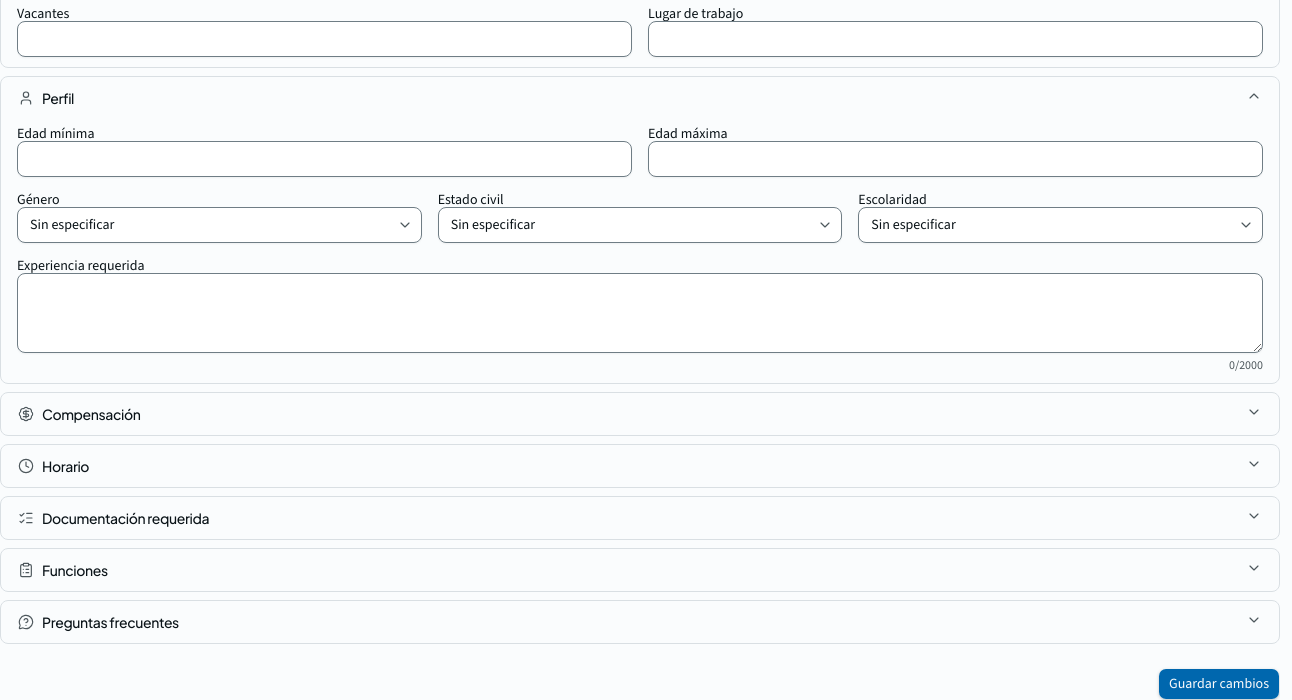
Test: 011 — PositionForm › muestra mensaje empty para FAQ cuando la lista está vacía
This screenshot has width=1292, height=700.
(page scrolled)
What coordinates should you click on to do the following:
click the button "Preguntas frecuentes"
I would click on:
 (110, 622)
Its box is [17, 601, 1263, 643].
(page scrolled)
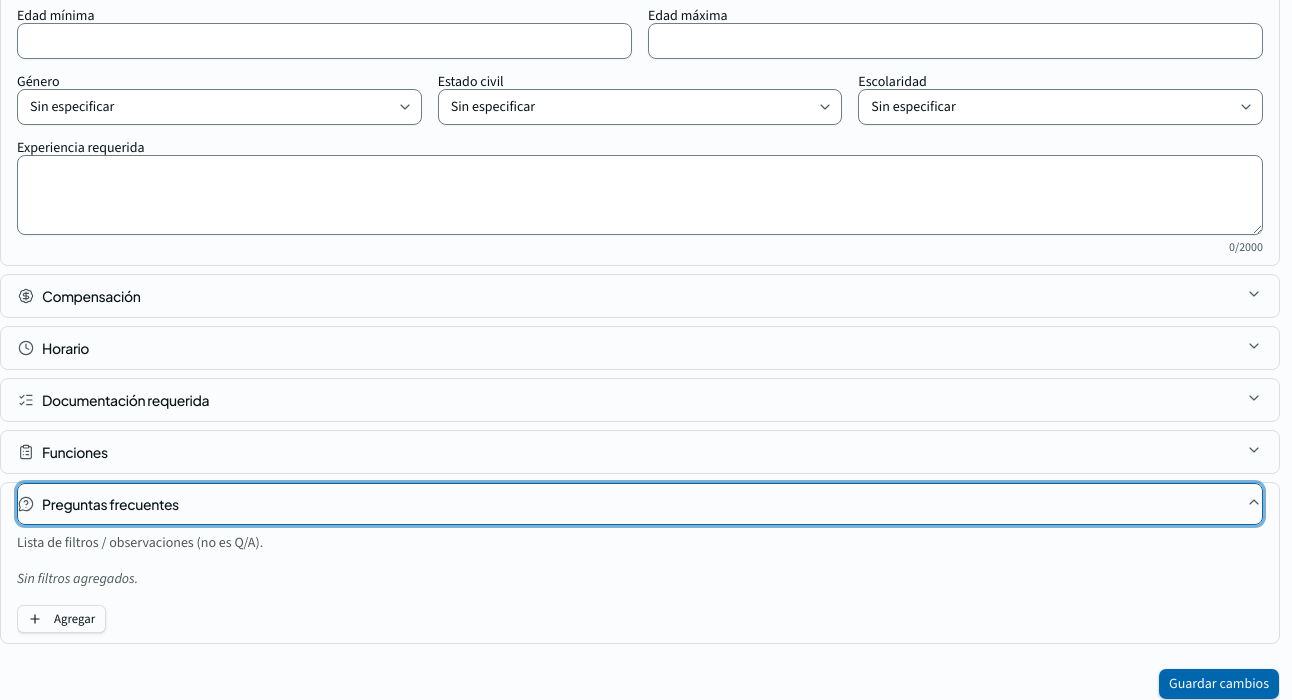
Expected: the text "Sin filtros agregados." is shown, [17, 569, 138, 588]
